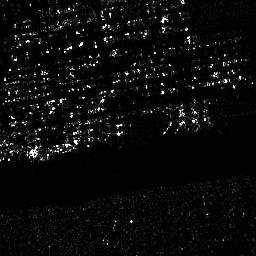ship: (25, 141, 77, 162)
